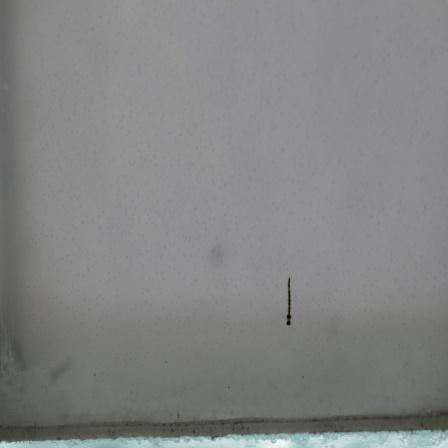Jentik-Nyamuk: (283, 275, 297, 331)
